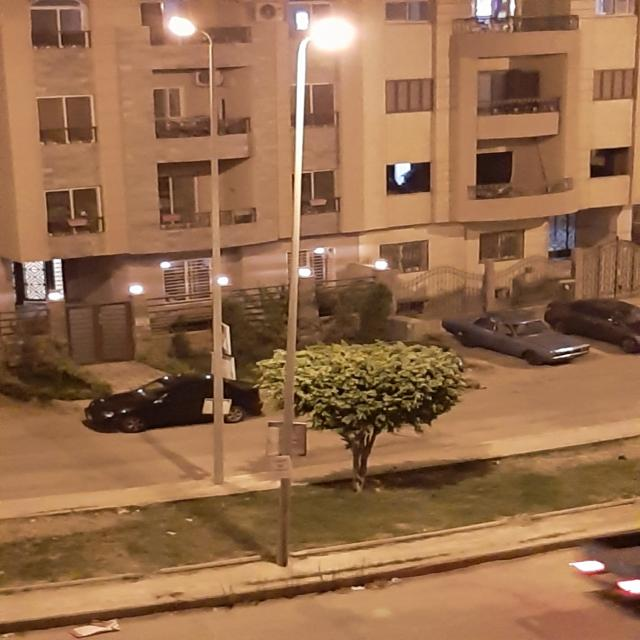Street Light: (271, 15, 361, 566), (165, 17, 225, 483)
